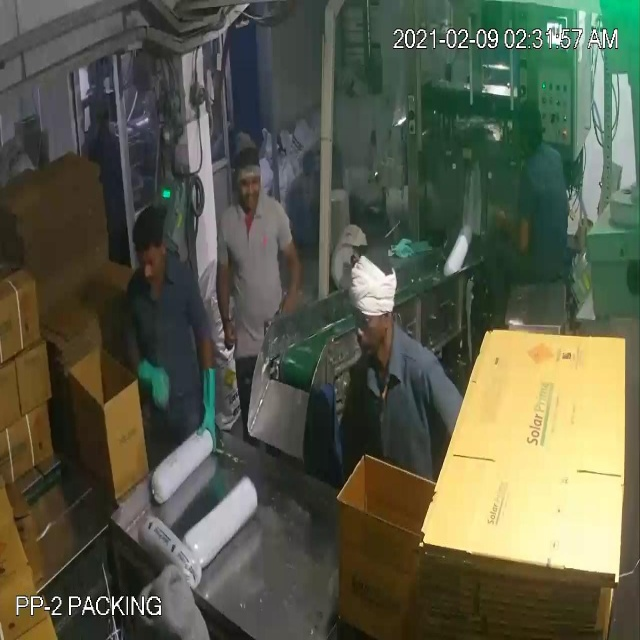Guantes: (190, 337, 226, 462), (130, 350, 173, 412)
Sin_guantes: (270, 215, 309, 335), (211, 236, 243, 364)
